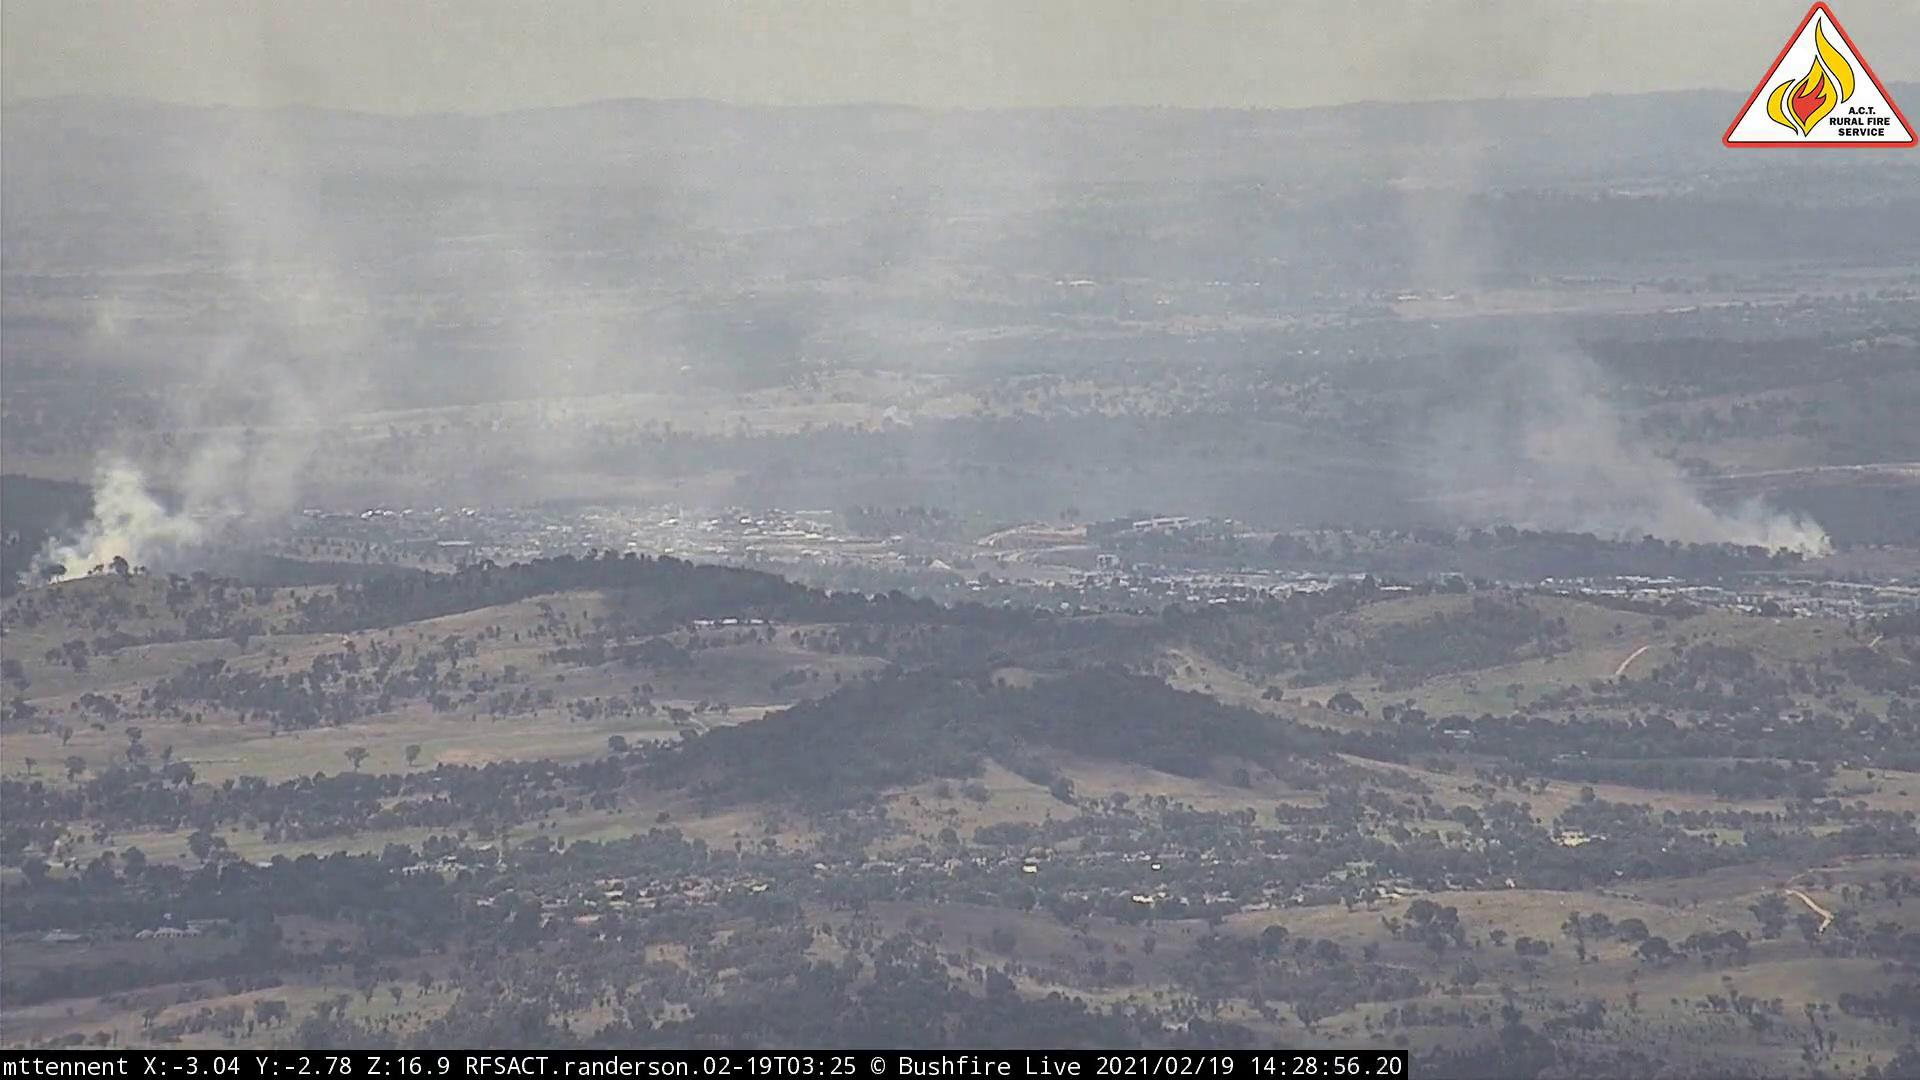Smoke: (29, 235, 433, 607), (1414, 291, 1844, 556)
